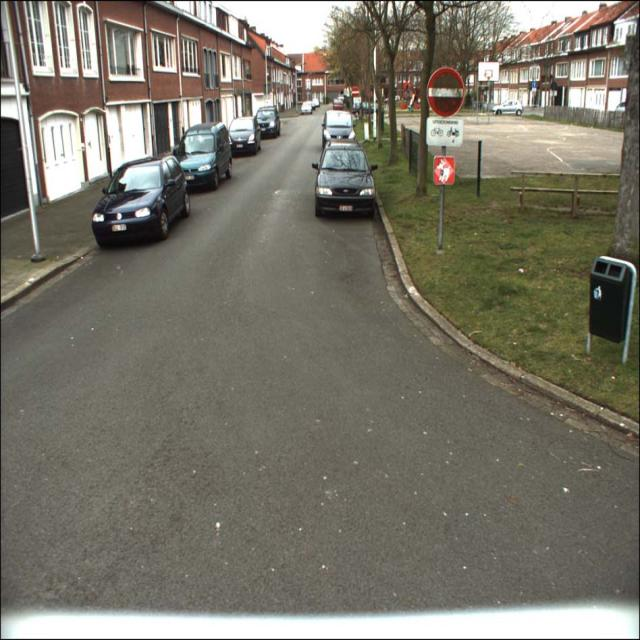girisyok: (426, 67, 464, 117)
